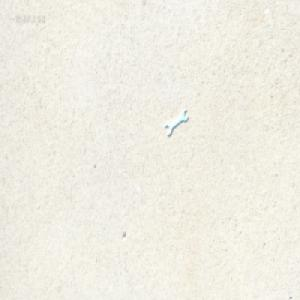Wrench: (164, 107, 187, 135)
